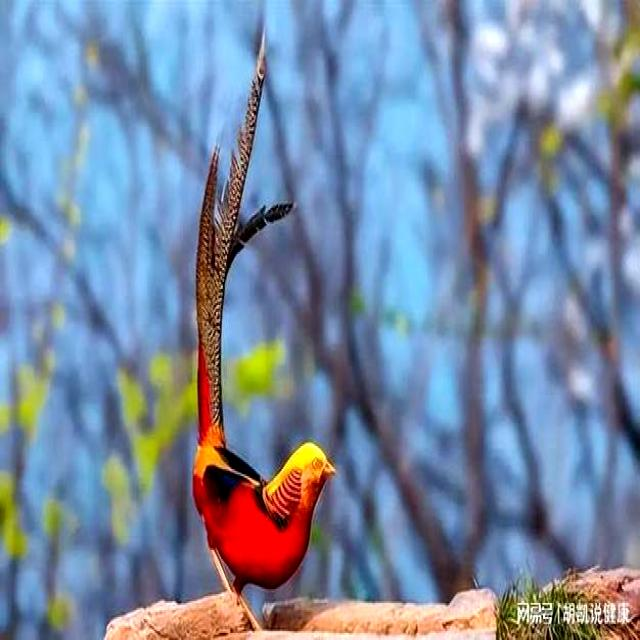Chrysolophus pictus feather: (195, 32, 293, 448)
